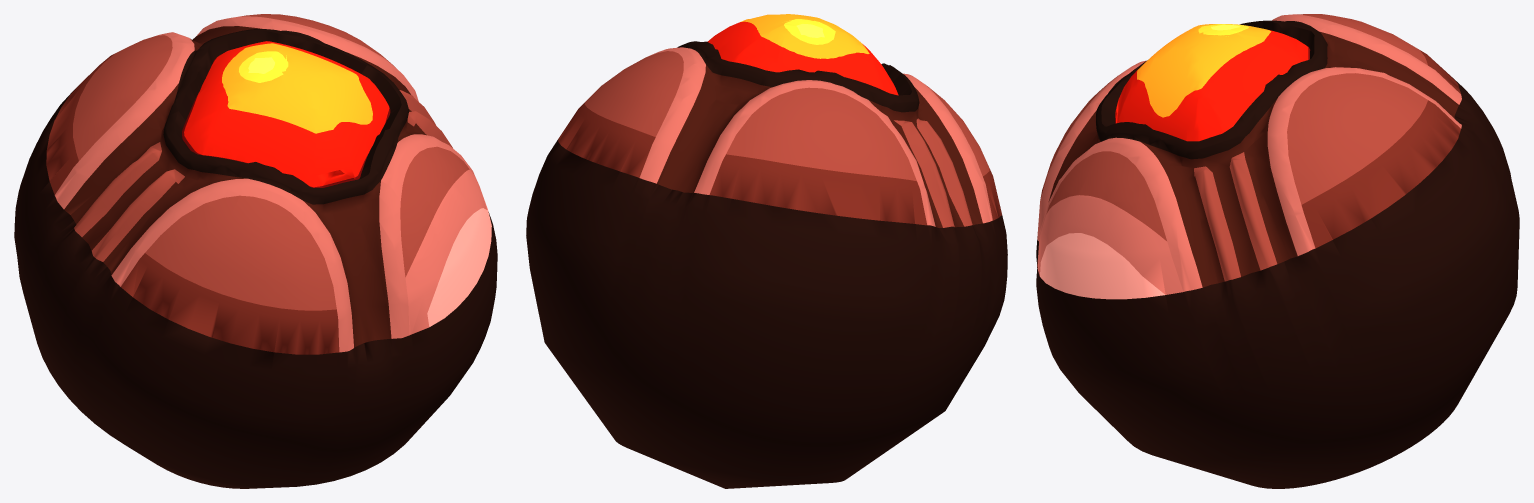
The model's file is sa_orb_red.glb.
The picture shows the model from 3 angles, left to right: view 1: azimuth 30°, elevation 25°; view 2: azimuth 150°, elevation 25°; view 3: azimuth 270°, elevation 25°; orthographic projection.
Visible parts, largest first — view 1: ball, gem; view 2: ball, gem; view 3: ball, gem.
Boxes of the visible parts, x1=… form: ball: x1=14, y1=14, x2=497, y2=488; gem: x1=182, y1=41, x2=390, y2=187; ball: x1=526, y1=41, x2=1007, y2=488; gem: x1=707, y1=14, x2=898, y2=95; ball: x1=1036, y1=14, x2=1519, y2=488; gem: x1=1115, y1=24, x2=1310, y2=141.
Size of the model in its own units: 23.9 by 24.26 by 24.58.
